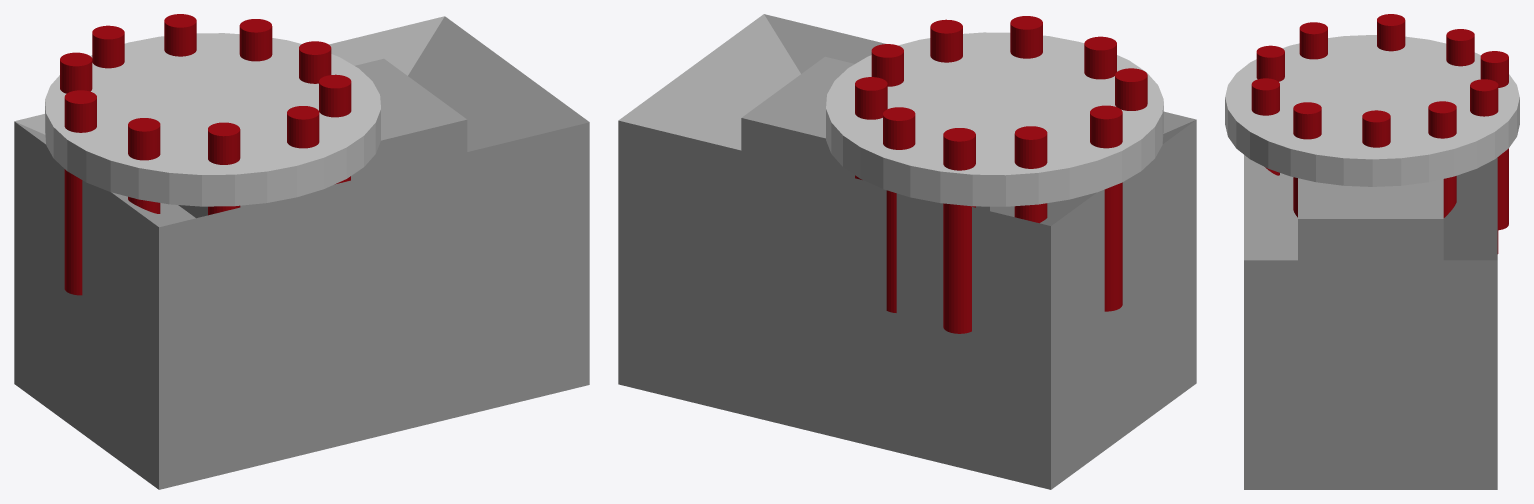
Rendered from HiTec3.obj.
3 views of the same model, side by side, from view 1: azimuth 30°, elevation 25°; view 2: azimuth 150°, elevation 25°; view 3: azimuth 270°, elevation 25° (orthographic). The views are drawn at different scales.
Parts seen in each view (by area): view 1: Cube, Cylinder, Cylinder.008_Cylinder.009; view 2: Cube, Cylinder, Cylinder.008_Cylinder.009; view 3: Cube, Cylinder, Cylinder.008_Cylinder.009.
Boxes of the visible parts, x1,y1,x2,y2 form: Cube: (14,16,589,489); Cylinder: (45,33,380,206); Cylinder.008_Cylinder.009: (60,14,351,295); Cube: (618,14,1196,489); Cylinder: (826,32,1163,206); Cylinder.008_Cylinder.009: (855,16,1147,333); Cube: (1244,155,1497,489); Cylinder: (1225,35,1519,186); Cylinder.008_Cylinder.009: (1251,14,1508,253).
Bounding box in the file's own units: 3.58 × 2.51 × 2.32.
